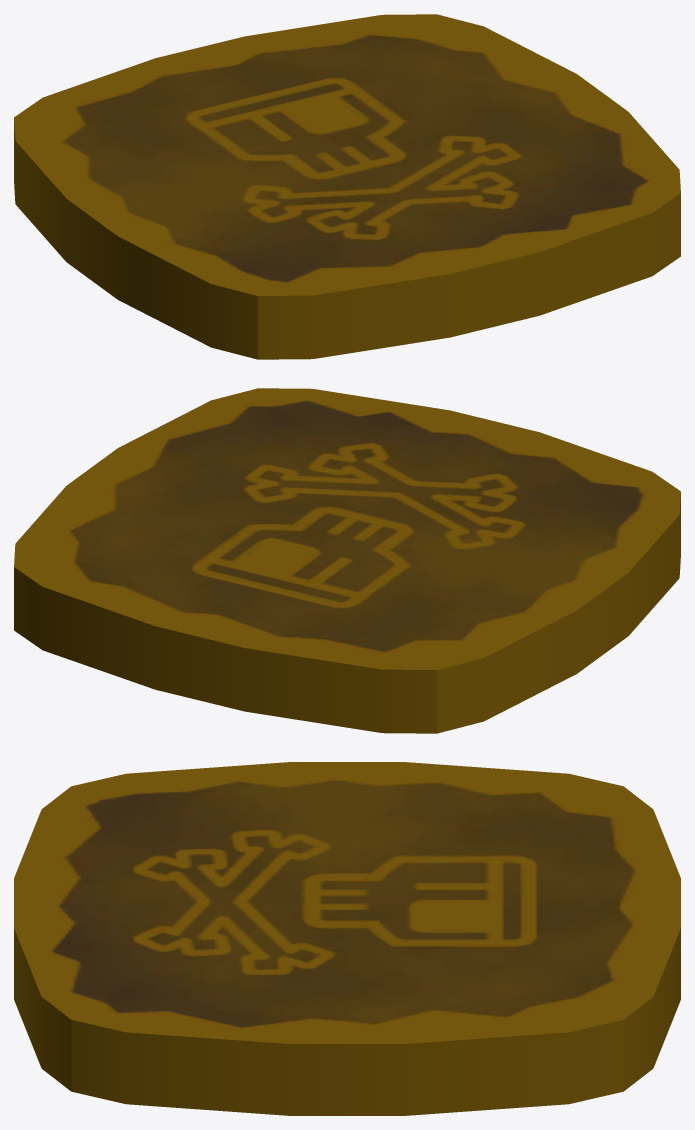
Rendered from coin pirate.glb.
3 renders of one model, top to bottom at view 1: azimuth 30°, elevation 25°; view 2: azimuth 150°, elevation 25°; view 3: azimuth 270°, elevation 25°, orthographic. The views are drawn at different scales.
Visible parts, largest first — view 1: Coin; view 2: Coin; view 3: Coin.
Boxes of the visible parts, box(x1,y1,x2,y2) form: Coin: box(14, 14, 680, 359); Coin: box(14, 388, 680, 733); Coin: box(14, 762, 680, 1115).
Bounding box in the file's own units: 0.1206 × 0.0143 × 0.1206.
1 material, 1 textured.
